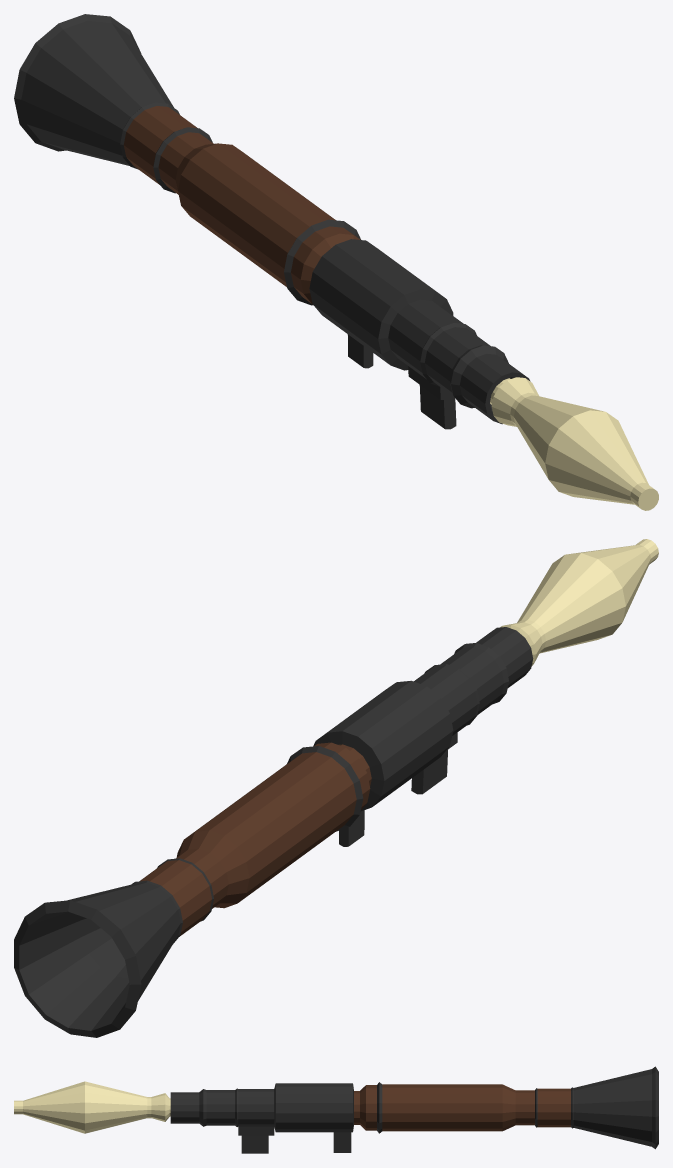
Rendered from rpg.glb.
3 renders of one model, top to bottom at view 1: azimuth 30°, elevation 25°; view 2: azimuth 150°, elevation 25°; view 3: azimuth 270°, elevation 25°, orthographic. The views are drawn at different scales.
Parts seen in each view (by area): view 1: rpg; view 2: rpg; view 3: rpg.
Boxes of the visible parts, x1,y1,x2,y2 form: rpg: (14, 14, 658, 510); rpg: (14, 539, 658, 1037); rpg: (14, 1066, 658, 1153).
Bounding box in the file's own units: 0.1282 × 0.1398 × 1.
2 materials, 2 textured.
